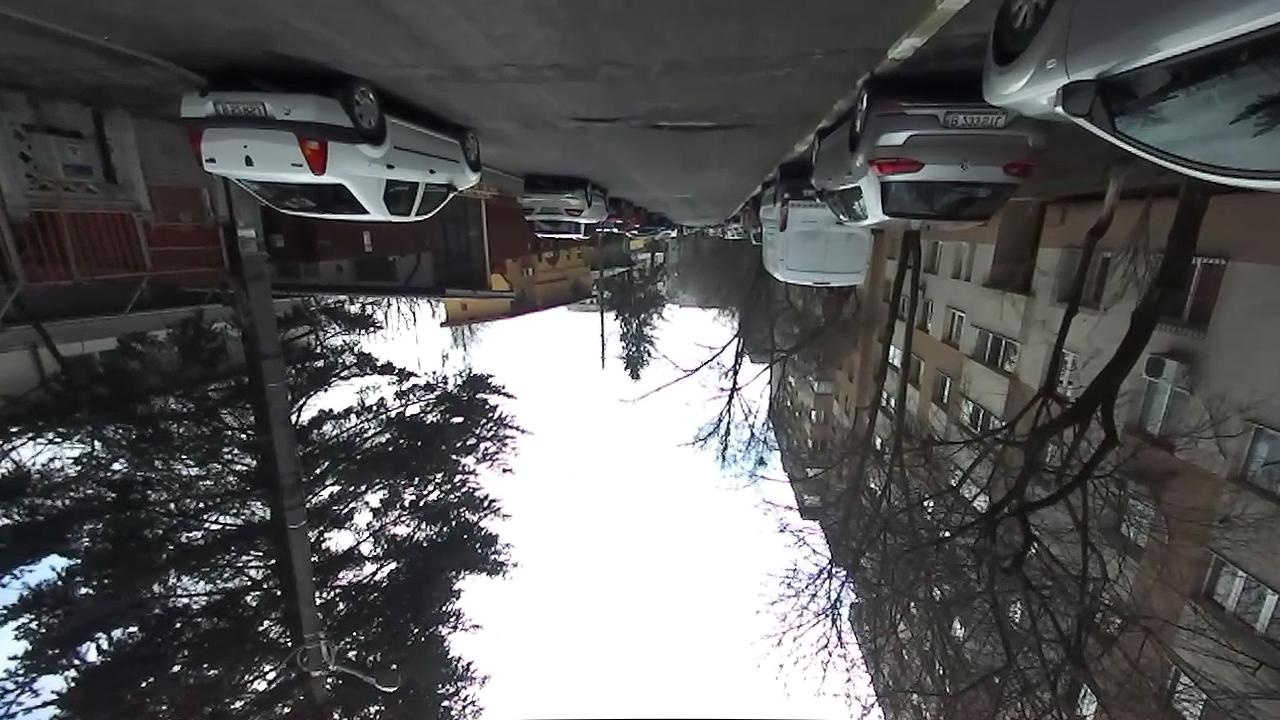pothole: (644, 120, 755, 139), (567, 114, 630, 129)
